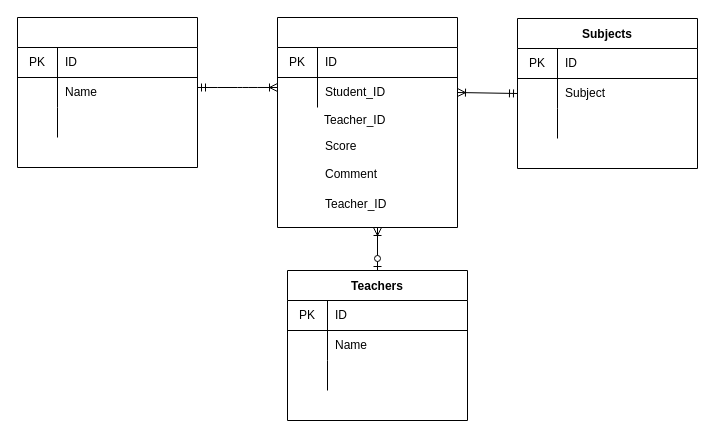
This 715x438 diagram has some shape labels left out. Each missing label, with the box of its shape:
Student_Subjects: (276, 16, 458, 228)
Students: (16, 16, 198, 168)
